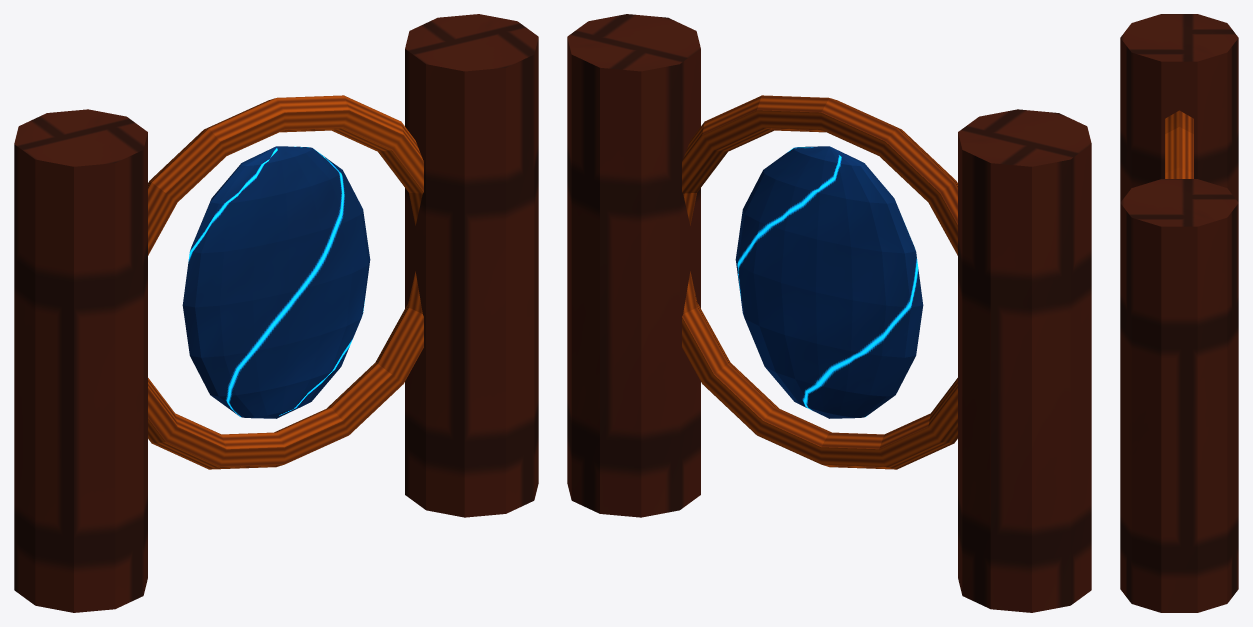
Rendered from SM_FC_ElementalExitGate.fbx.
3 renders of one model, left to right at view 1: azimuth 30°, elevation 25°; view 2: azimuth 150°, elevation 25°; view 3: azimuth 270°, elevation 25°, orthographic. The views are drawn at different scales.
Visible parts, largest first — view 1: SM_FC_ElementalExitGate; view 2: SM_FC_ElementalExitGate; view 3: SM_FC_ElementalExitGate.
Boxes of the visible parts, left/top/right/bottom form: SM_FC_ElementalExitGate: left=14, top=14, right=538, bottom=612; SM_FC_ElementalExitGate: left=567, top=14, right=1091, bottom=612; SM_FC_ElementalExitGate: left=1120, top=14, right=1238, bottom=612.
Size of what is drawn, in the model's own units: 4.25 by 3.6 by 1.
